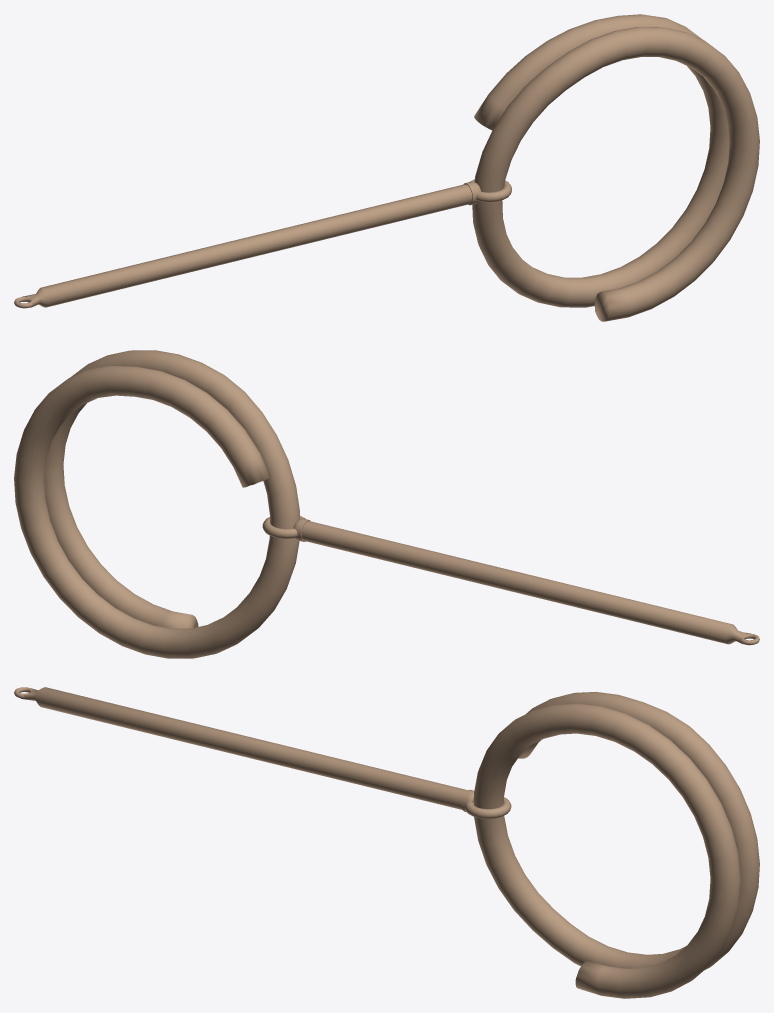
File: Grenade Pin.obj
The picture shows the model from 3 angles, top to bottom: view 1: azimuth 30°, elevation 25°; view 2: azimuth 150°, elevation 25°; view 3: azimuth 330°, elevation 25°; orthographic projection.
Visible parts, largest first — view 1: Pin_Grip, Pin; view 2: Pin_Grip, Pin; view 3: Pin_Grip, Pin.
Part boxes in pixels (bbox=[...]): Pin_Grip: bbox=[472, 14, 759, 321]; Pin: bbox=[14, 179, 511, 308]; Pin_Grip: bbox=[14, 350, 299, 658]; Pin: bbox=[262, 516, 759, 645]; Pin_Grip: bbox=[474, 692, 759, 998]; Pin: bbox=[14, 687, 511, 818].
Size of the model in its own units: 72.68 by 27.08 by 6.8.
